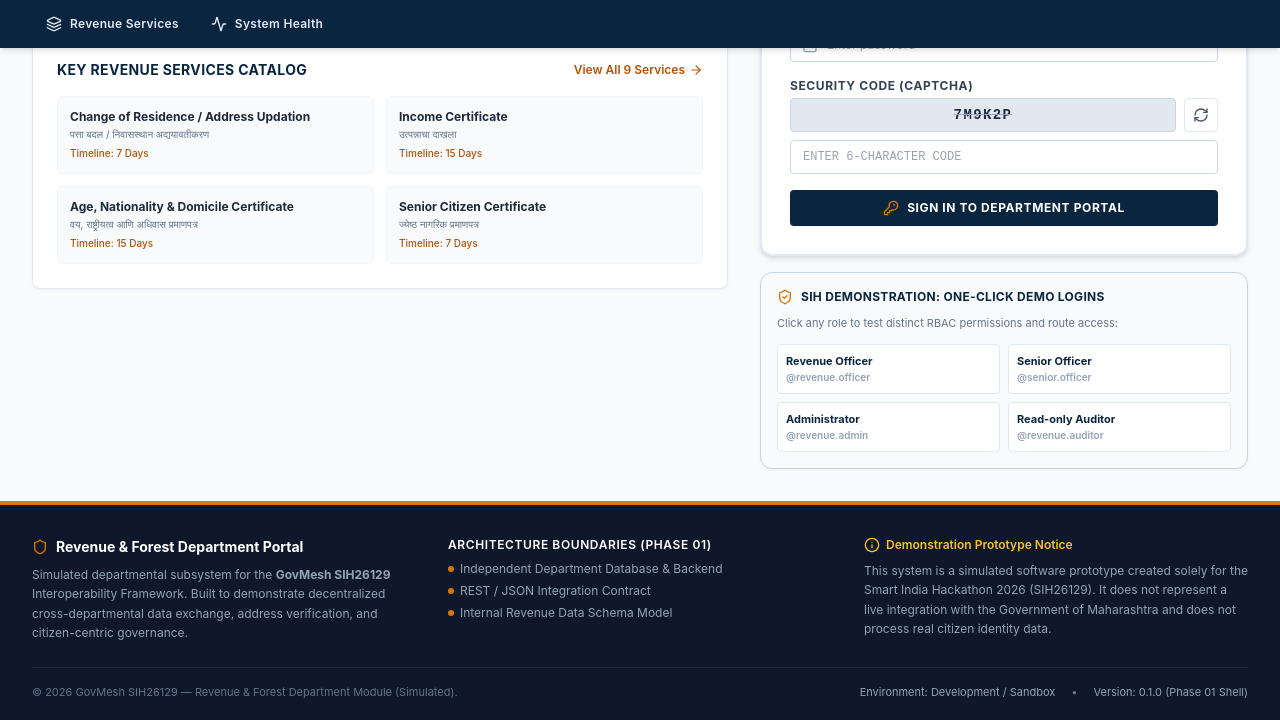
Phase 04: Officer Address Verification Workflow UI › navigates to applications scrutiny queue and verifies search bar
The image size is (1280, 720).
(page scrolled)
Click the text "Revenue Officer": coordinates (829, 360) [786, 354, 873, 368]
(page scrolled)
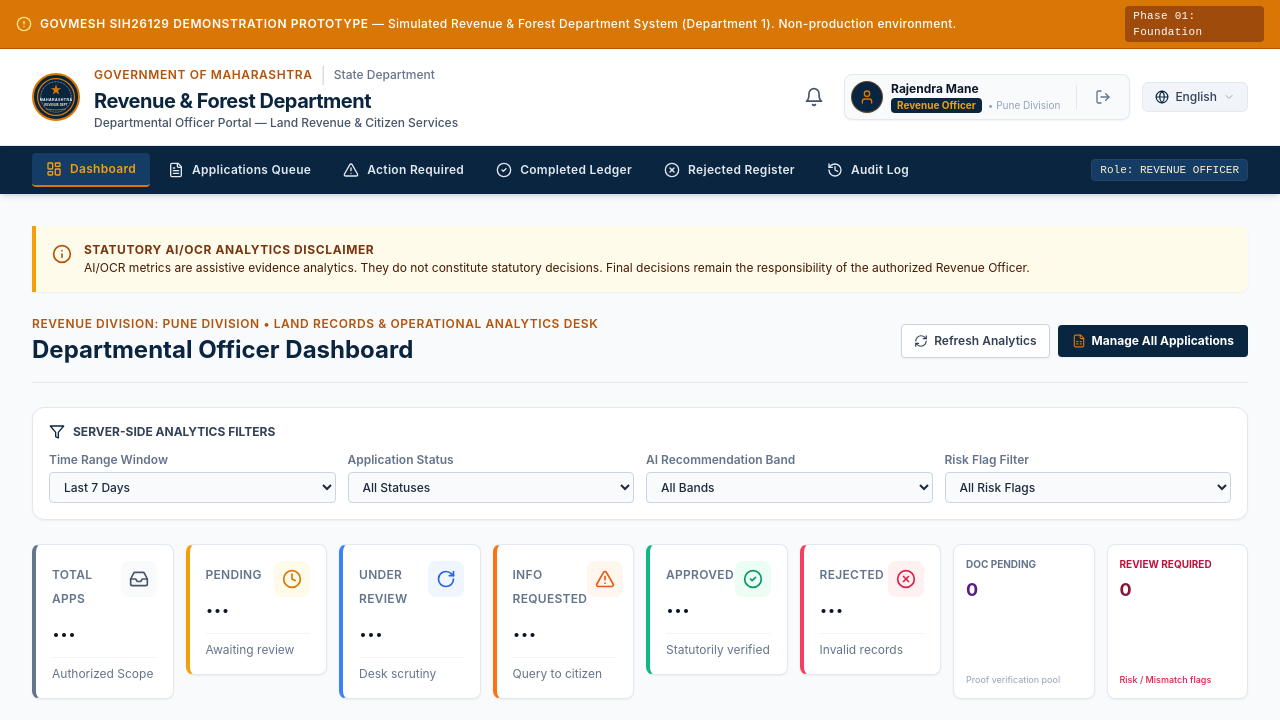
Expected: the heading "Departmental Officer Dashboard" is shown, [32, 335, 413, 364]
Click the button "Manage All Applications": coordinates (1153, 341) [1058, 325, 1248, 357]
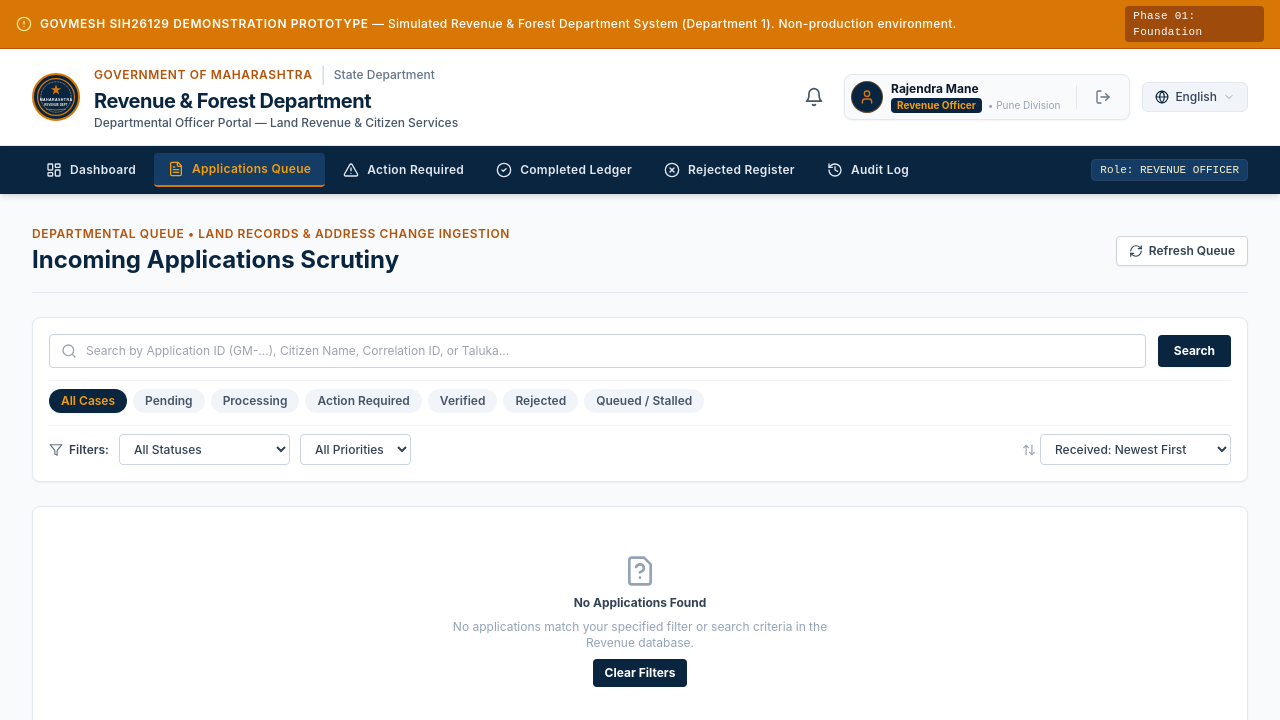
Expected: the heading "Incoming Applications Scrutiny" is shown, [32, 245, 399, 274]
Expected: the field with placeholder "Search by Application ID" is shown, [49, 334, 1146, 368]
